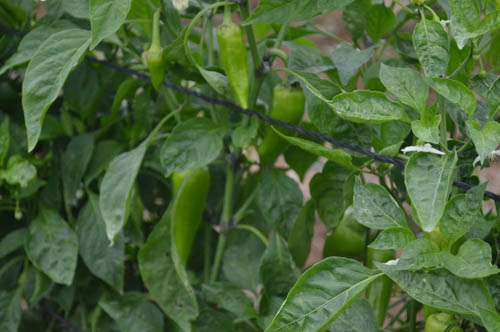ChiliPepper: (170, 168, 207, 268), (214, 23, 252, 110), (260, 86, 300, 165), (364, 243, 394, 327), (324, 222, 362, 263), (146, 50, 168, 90)
